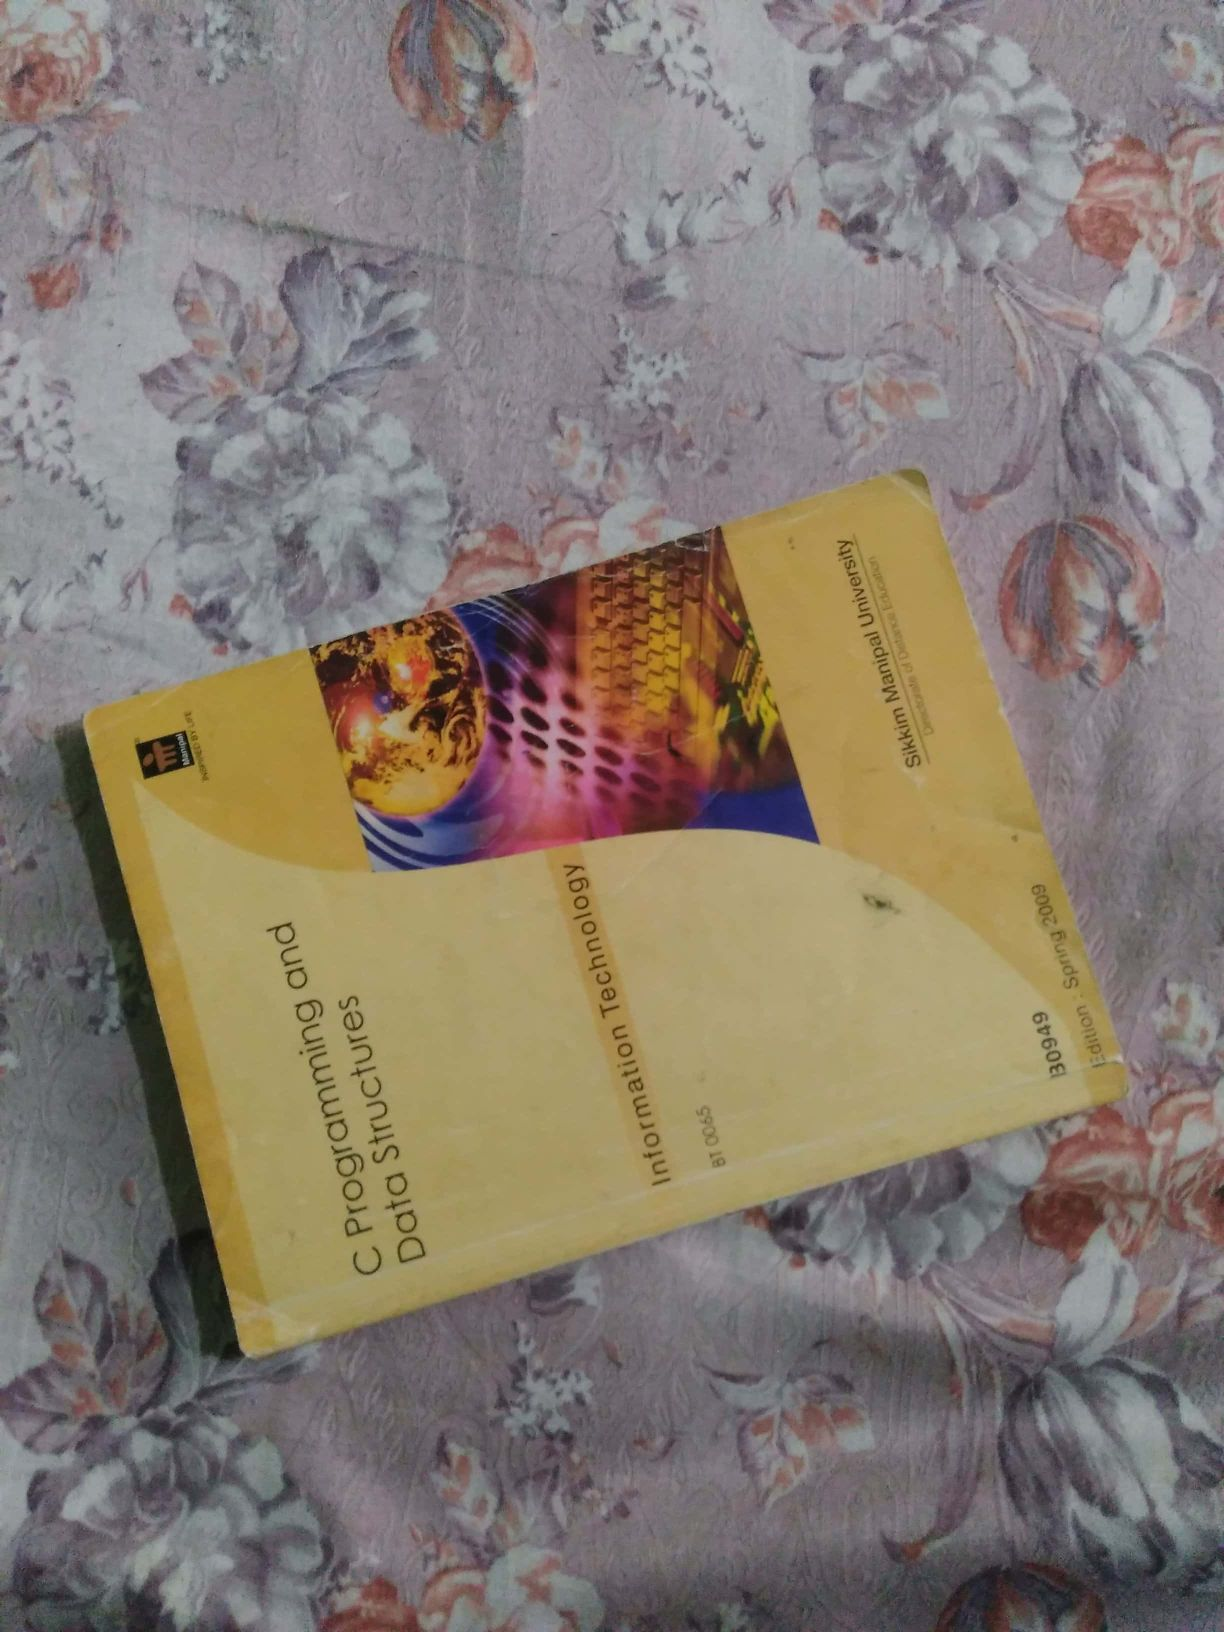clang: (85, 515, 1176, 1375)
